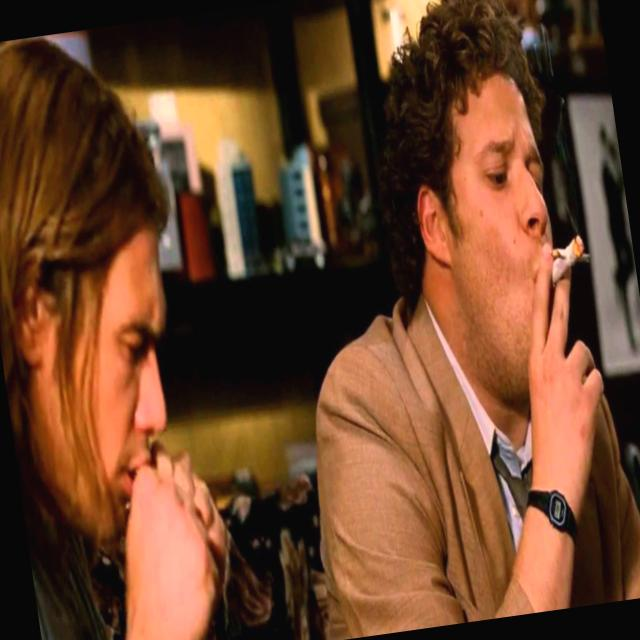smoke: (526, 206, 614, 312)
